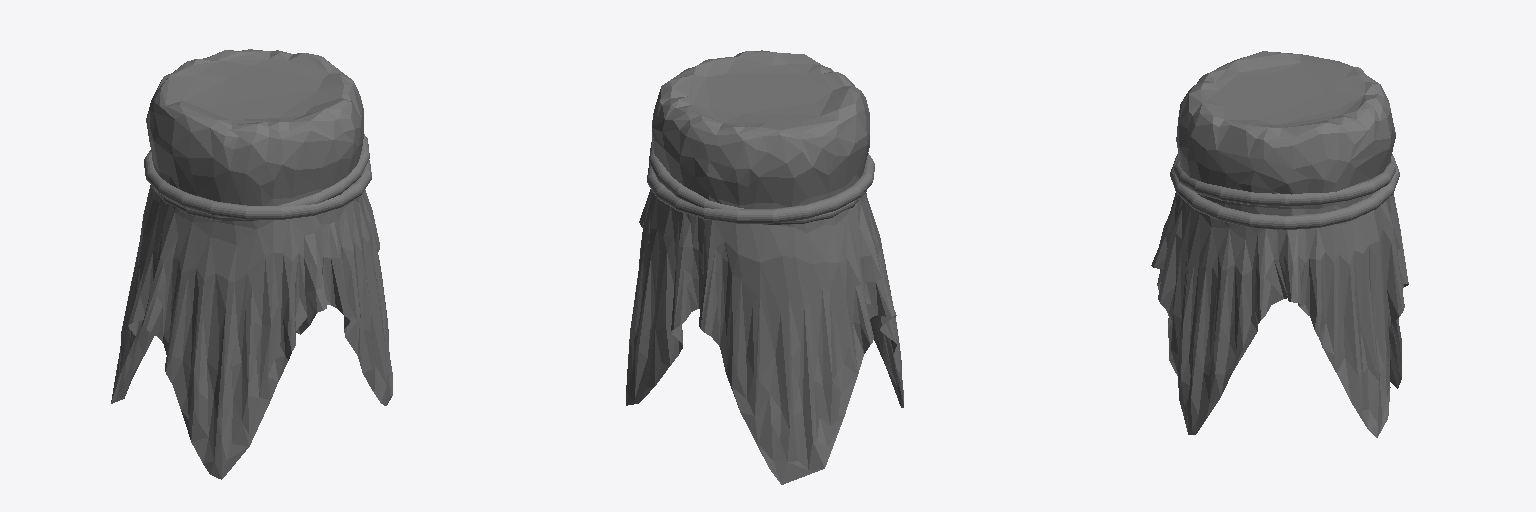
File: Pot8Lid.obj
The picture shows the model from 3 angles: view 1: azimuth 30°, elevation 25°; view 2: azimuth 150°, elevation 25°; view 3: azimuth 270°, elevation 25°; orthographic projection.
Visible parts, largest first — view 1: Pot8Lid; view 2: Pot8Lid; view 3: Pot8Lid.
Boxes of the visible parts, box(x1,y1,x2,y2) form: Pot8Lid: box(111, 49, 392, 479); Pot8Lid: box(626, 50, 903, 484); Pot8Lid: box(1151, 51, 1408, 437).
Size of the model in its own units: 0.768 by 1.03 by 0.7123.